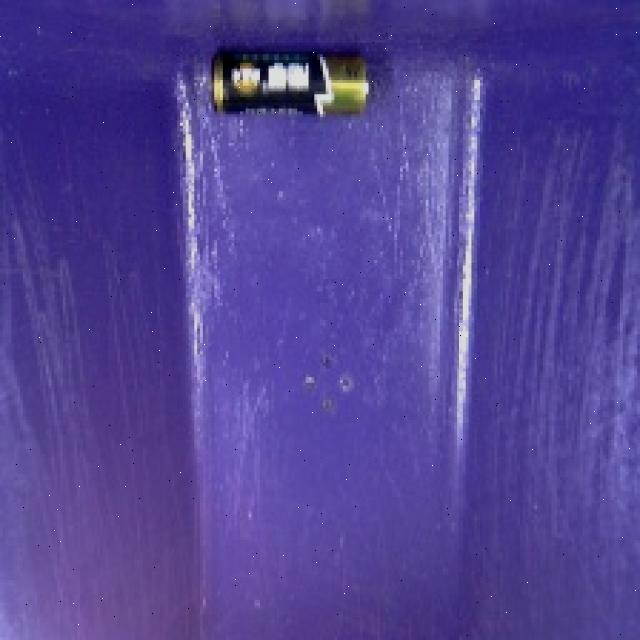battery: (203, 32, 382, 135)
